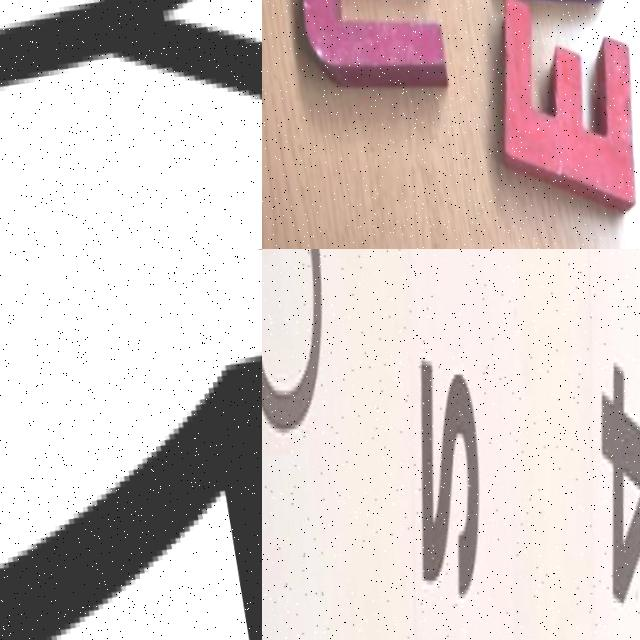0: (262, 249, 383, 482)
2: (371, 321, 536, 617)
4: (545, 291, 640, 634)
7: (0, 298, 262, 640)
E: (481, 0, 640, 228)
U: (268, 0, 471, 119)
Y: (0, 0, 262, 244)
